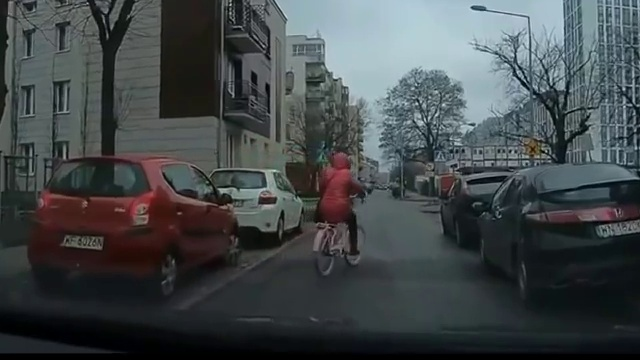cyclist_back: (310, 149, 371, 276)
